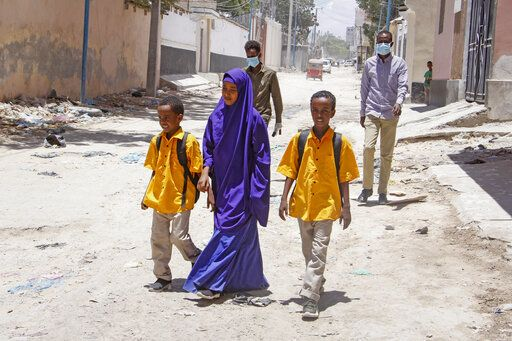Person: (191, 66, 279, 307), (276, 88, 359, 330), (138, 87, 214, 297), (356, 24, 409, 212), (229, 38, 289, 146)
